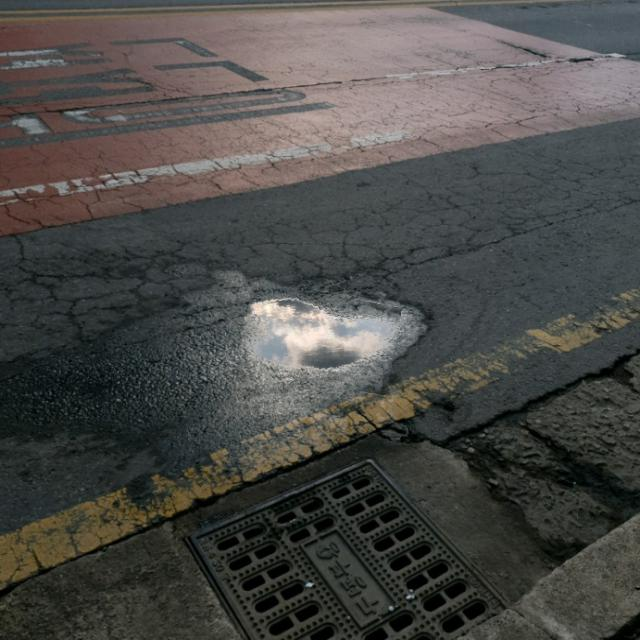puddle: (241, 289, 399, 390)
